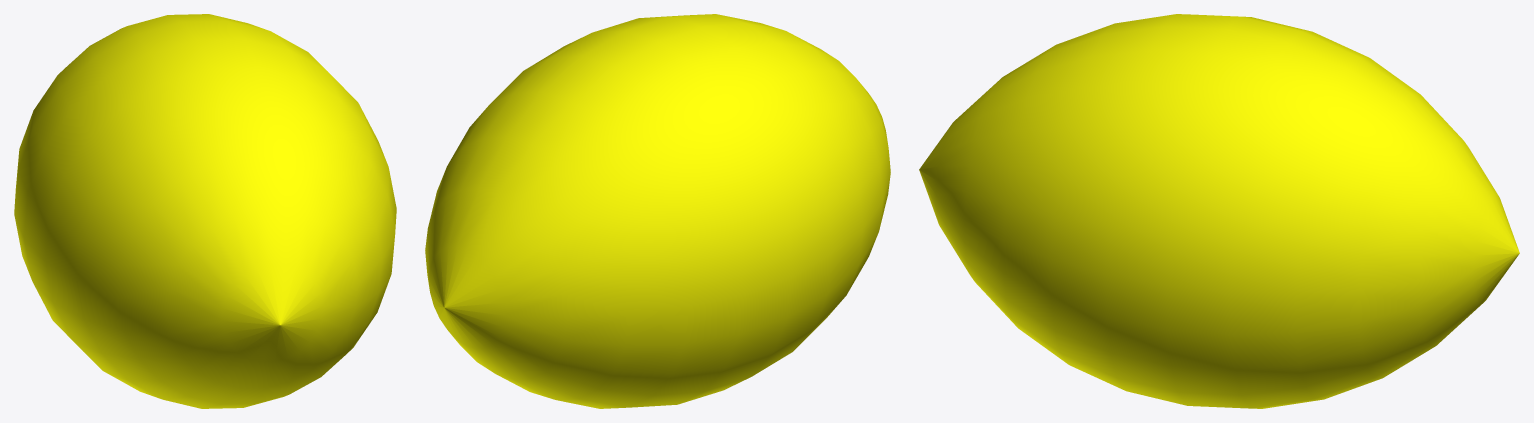
File: Lemon.dae
The picture shows the model from 3 angles, left to right: view 1: azimuth 30°, elevation 25°; view 2: azimuth 150°, elevation 25°; view 3: azimuth 270°, elevation 25°; orthographic projection. The views are drawn at different scales.
Parts seen in each view (by area): view 1: Lemon; view 2: Lemon; view 3: Lemon.
Boxes of the visible parts, x1,y1,x2,y2 form: Lemon: [14, 14, 396, 408]; Lemon: [425, 14, 890, 408]; Lemon: [919, 14, 1519, 408].
Bounding box in the file's own units: 144 × 215 × 141.
